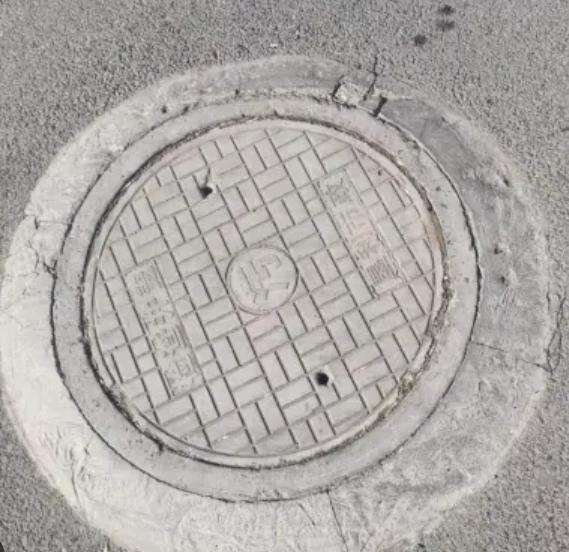wellcover: (55, 72, 476, 474)
